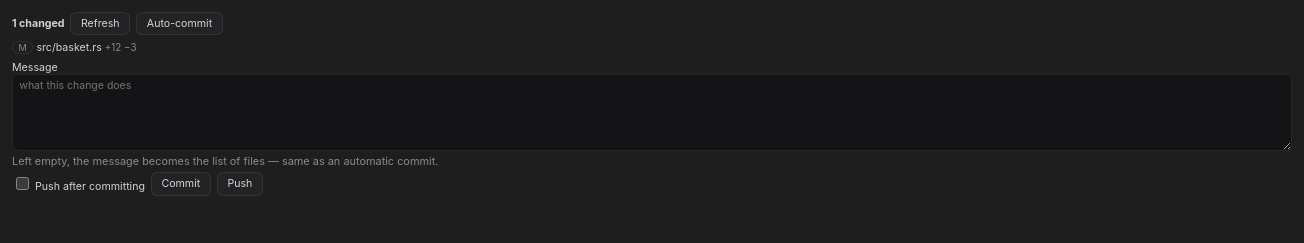
GitPanel › pushes only when asked to
What coordinates should you click on to do the following:
click the checkbox labelled "Push after committing"
I would click on:
 (22, 184)
Its box is [16, 177, 29, 190].
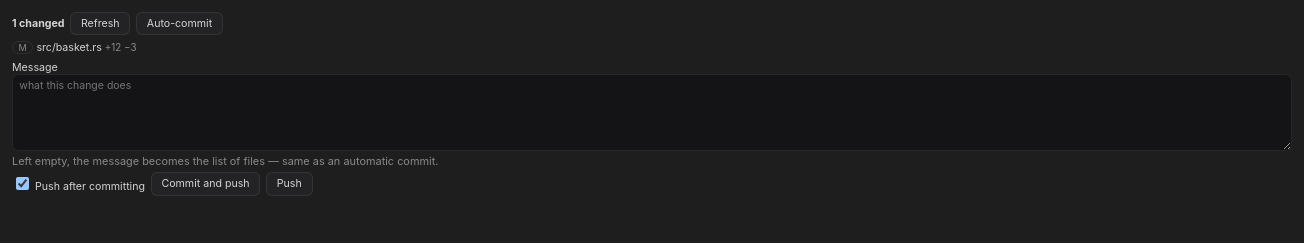
What coordinates should you click on to do the following:
click the button "Commit and push"
I would click on:
 (206, 184)
Its box is [151, 172, 260, 196].
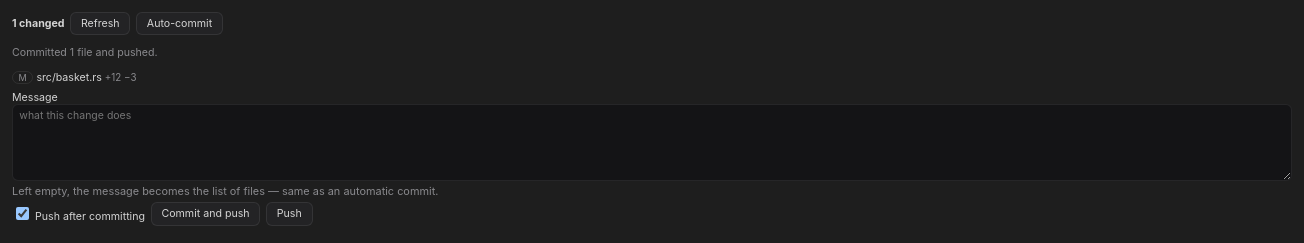
expect the text "Committed 1 file and pushed." is shown: met, box [12, 46, 158, 59]
